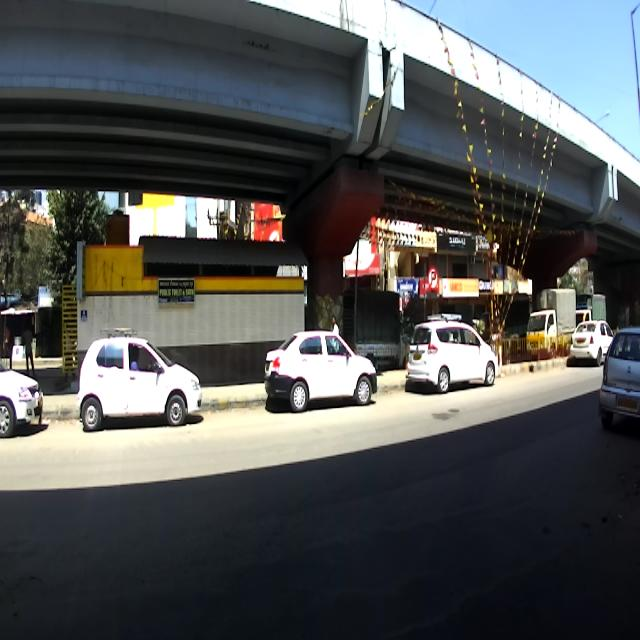car ahead at: (74, 334, 201, 444), (264, 331, 379, 419), (406, 313, 496, 395)
